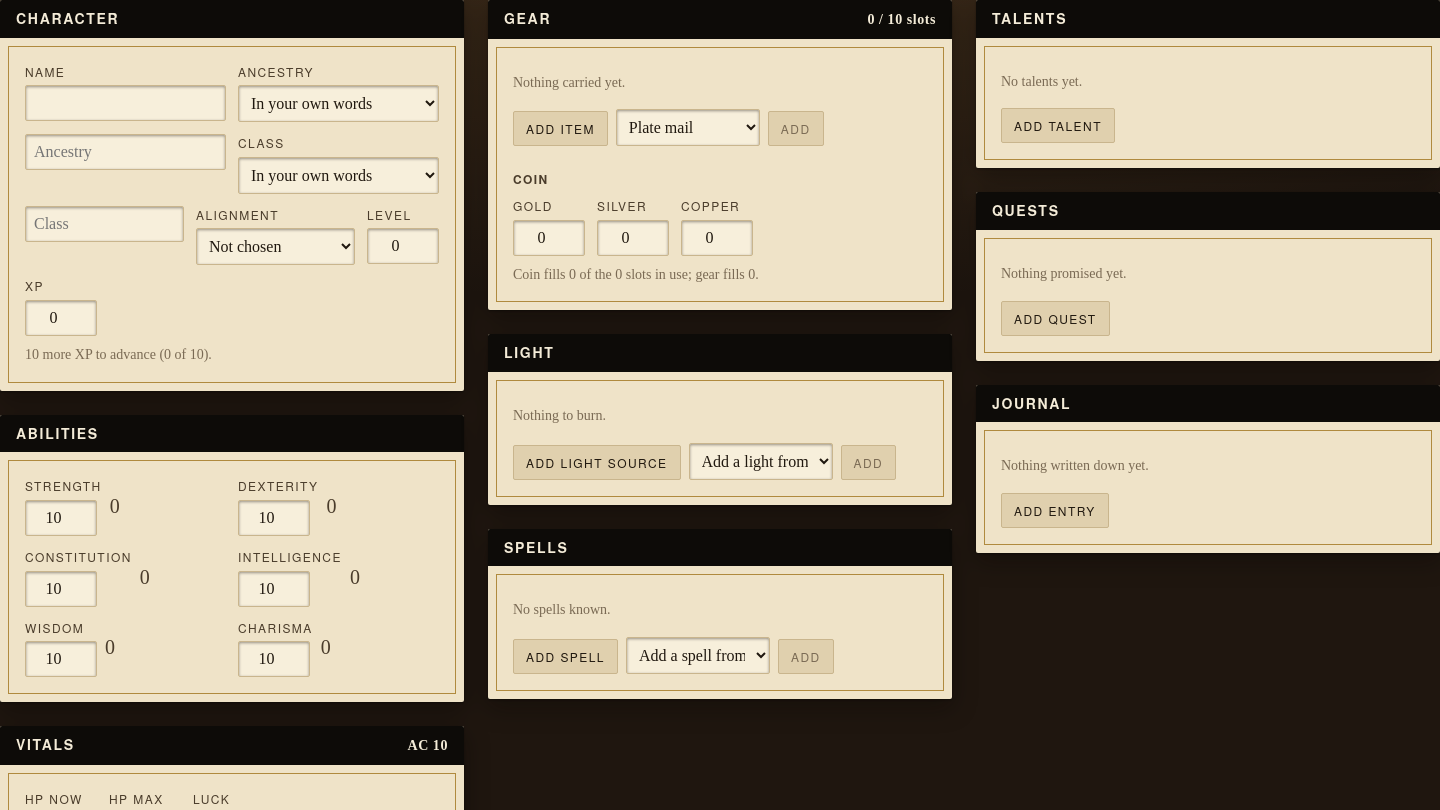
Test: a row added from a pack › is counted at the pack's slots rather than at the zero on the row
Expected: the element that starts with "Gear" shows "0 / 10 slots", x1=867 y1=12 x2=936 y2=27
Select "Plate mail" in the dropdown below "Nothing carried yet." at (688,128), box x1=616 y1=109 x2=760 y2=146
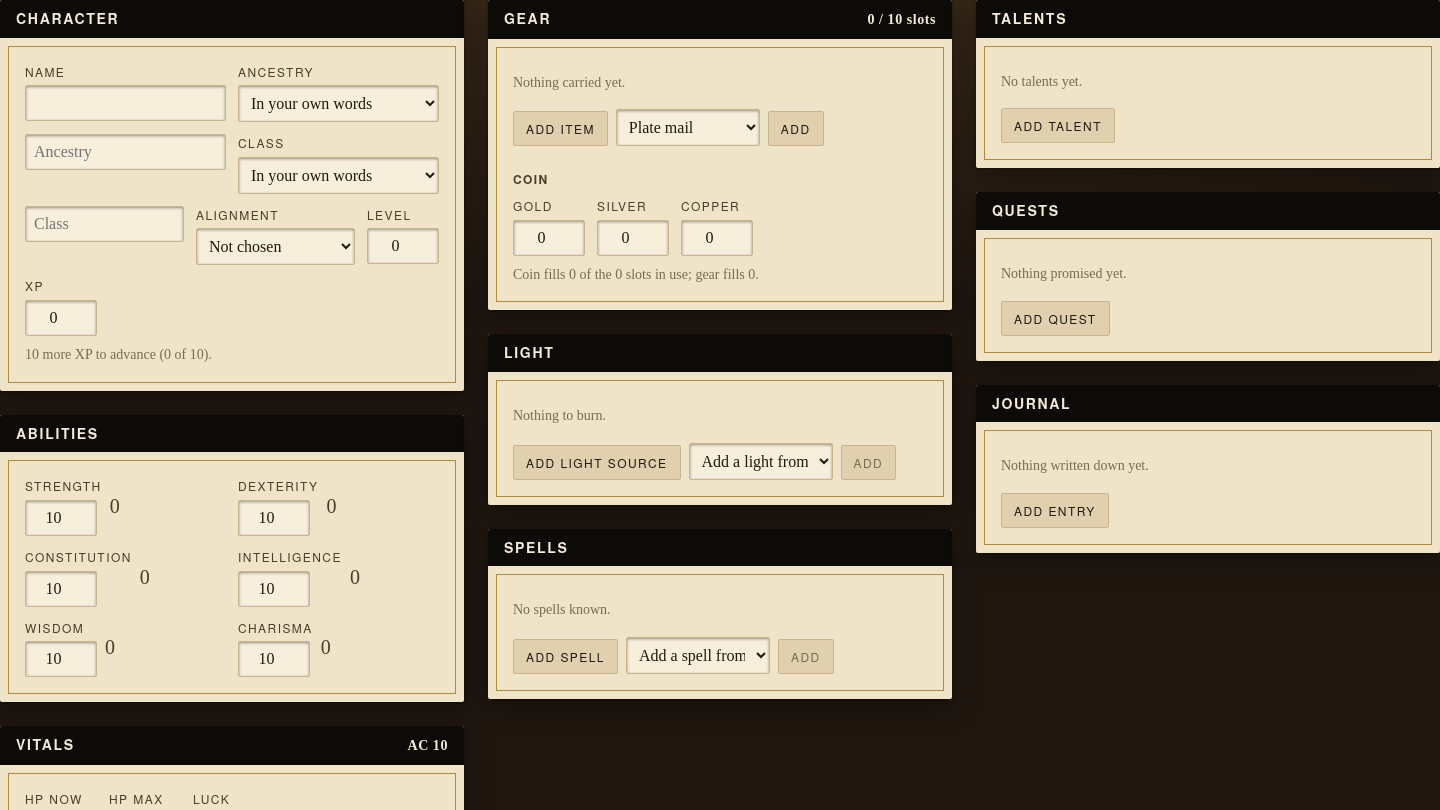
Click the button "Add" below "Nothing carried yet." at (796,129), box x1=768 y1=111 x2=824 y2=146
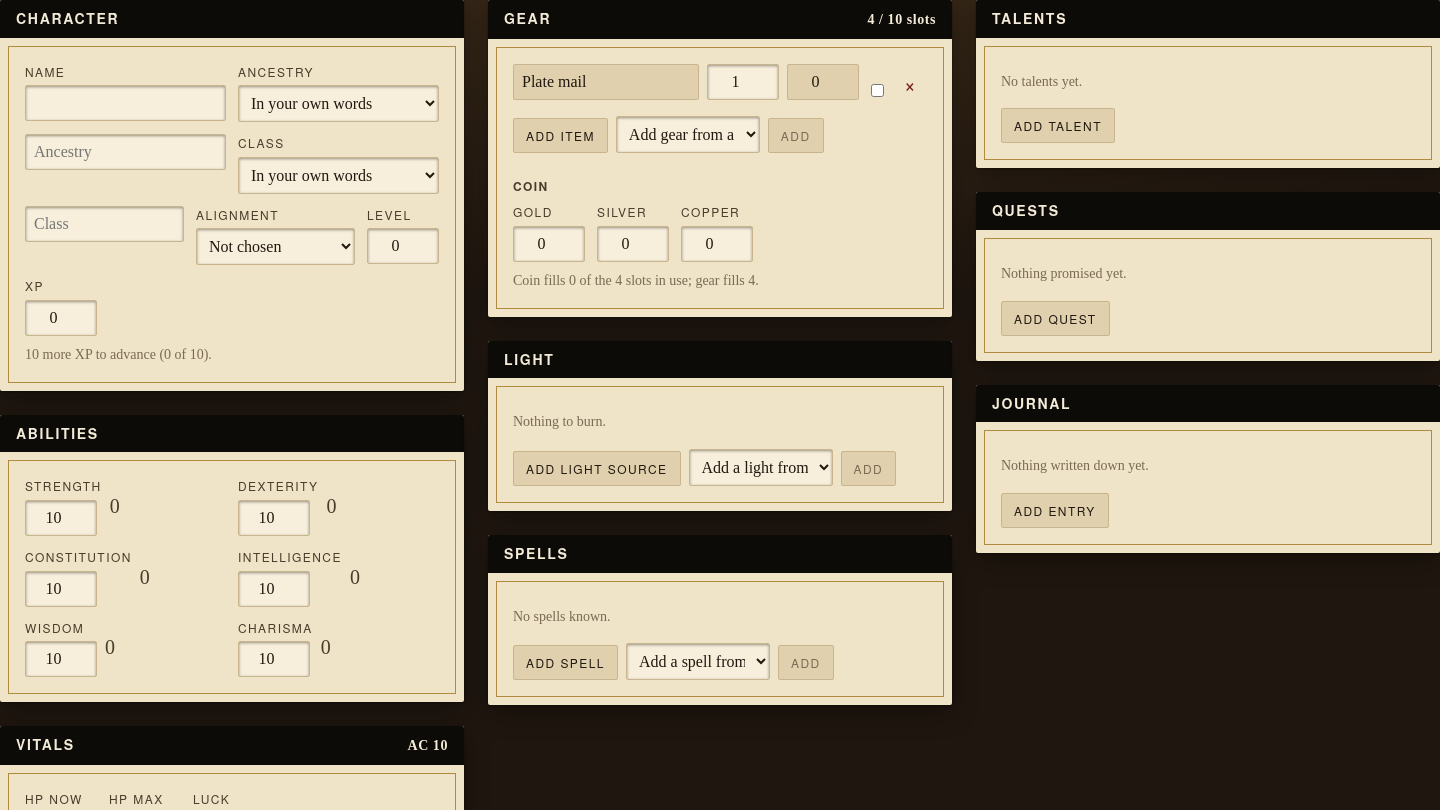
Expected: the element that starts with "Gear" shows "4 / 10 slots", x1=867 y1=12 x2=936 y2=27
